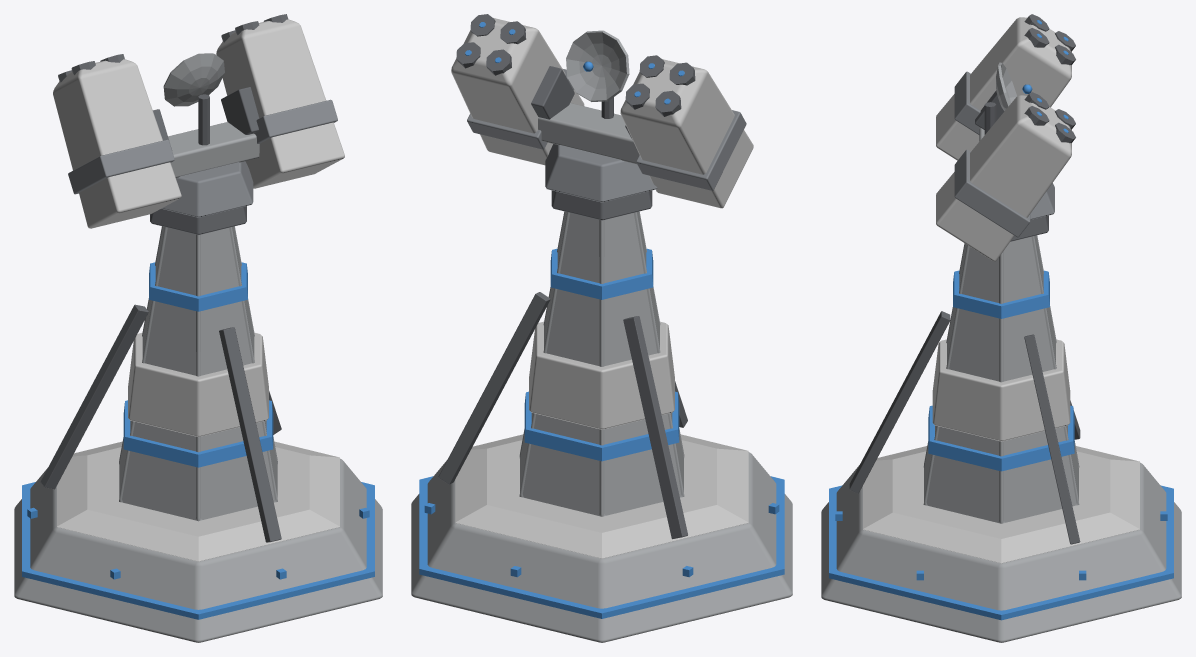
File: lattice_aa_turret.glb
The picture shows the model from 3 angles, left to right: view 1: azimuth 30°, elevation 25°; view 2: azimuth 150°, elevation 25°; view 3: azimuth 270°, elevation 25°; orthographic projection. The views are drawn at different scales.
Parts seen in each view (by area): view 1: Body, Turret; view 2: Body, Turret; view 3: Body, Turret.
Boxes of the visible parts, x1=… form: Body: x1=14, y1=206, x2=382, y2=642; Turret: x1=53, y1=14, x2=344, y2=228; Body: x1=411, y1=190, x2=792, y2=642; Turret: x1=451, y1=14, x2=753, y2=208; Body: x1=821, y1=215, x2=1181, y2=642; Turret: x1=936, y1=14, x2=1075, y2=261.
Size of the model in its own units: 5.61 by 7.39 by 4.88.
